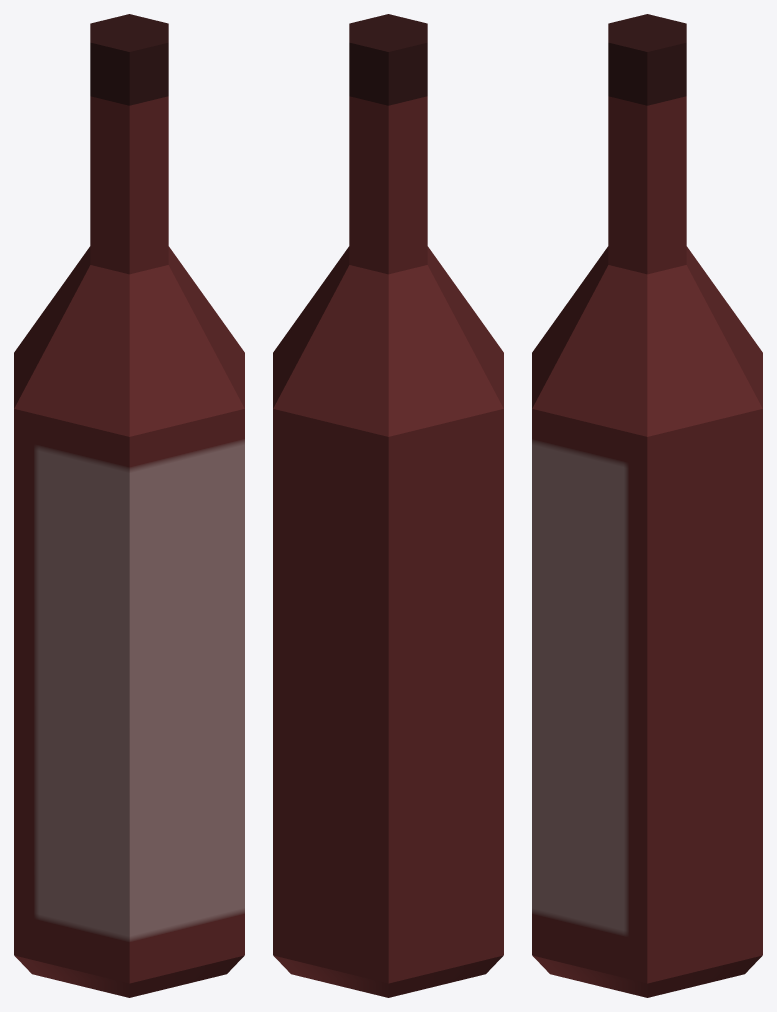
File: Bottle4.FBX
The picture shows the model from 3 angles, left to right: view 1: azimuth 30°, elevation 25°; view 2: azimuth 150°, elevation 25°; view 3: azimuth 270°, elevation 25°; orthographic projection.
Parts seen in each view (by area): view 1: Bottle4; view 2: Bottle4; view 3: Bottle4.
Part boxes in pixels (<box>): Bottle4: <box>14,14,244,997</box>; Bottle4: <box>273,14,503,997</box>; Bottle4: <box>532,14,762,997</box>.
Bounding box in the file's own units: 7.62 × 28.94 × 6.6.
